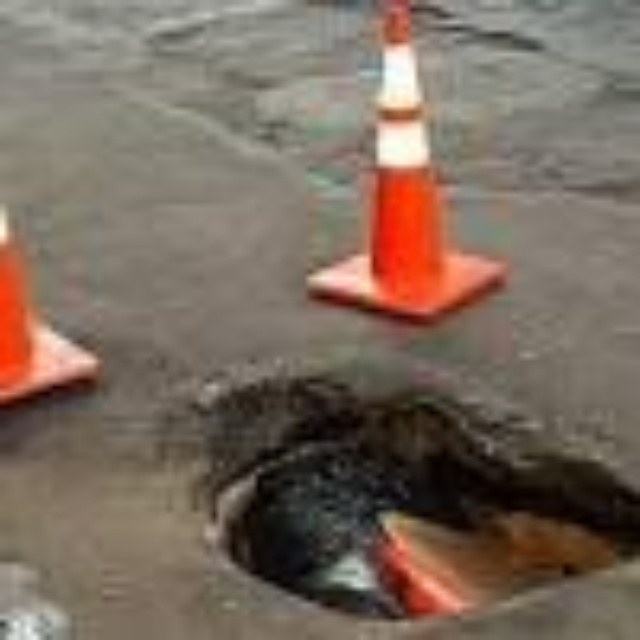pothole: (211, 378, 640, 627)
